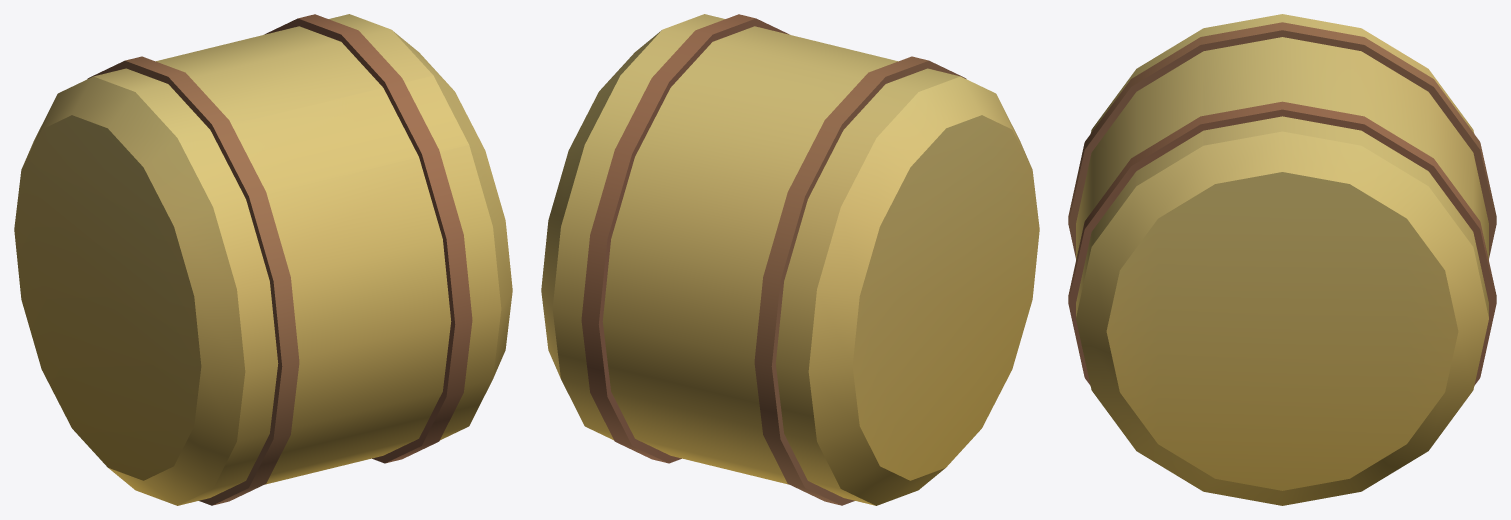
File: common_town_hay_bale.glb
The picture shows the model from 3 angles, left to right: view 1: azimuth 30°, elevation 25°; view 2: azimuth 150°, elevation 25°; view 3: azimuth 270°, elevation 25°; orthographic projection. The views are drawn at different scales.
Visible parts, largest first — view 1: common_town_hay_bale; view 2: common_town_hay_bale; view 3: common_town_hay_bale.
Part boxes in pixels (x1,y1,x2,y2): common_town_hay_bale: (14,14,512,505); common_town_hay_bale: (541,14,1039,505); common_town_hay_bale: (1068,14,1496,505).
Bounding box in the file's own units: 0.9 × 1.14 × 1.14.
